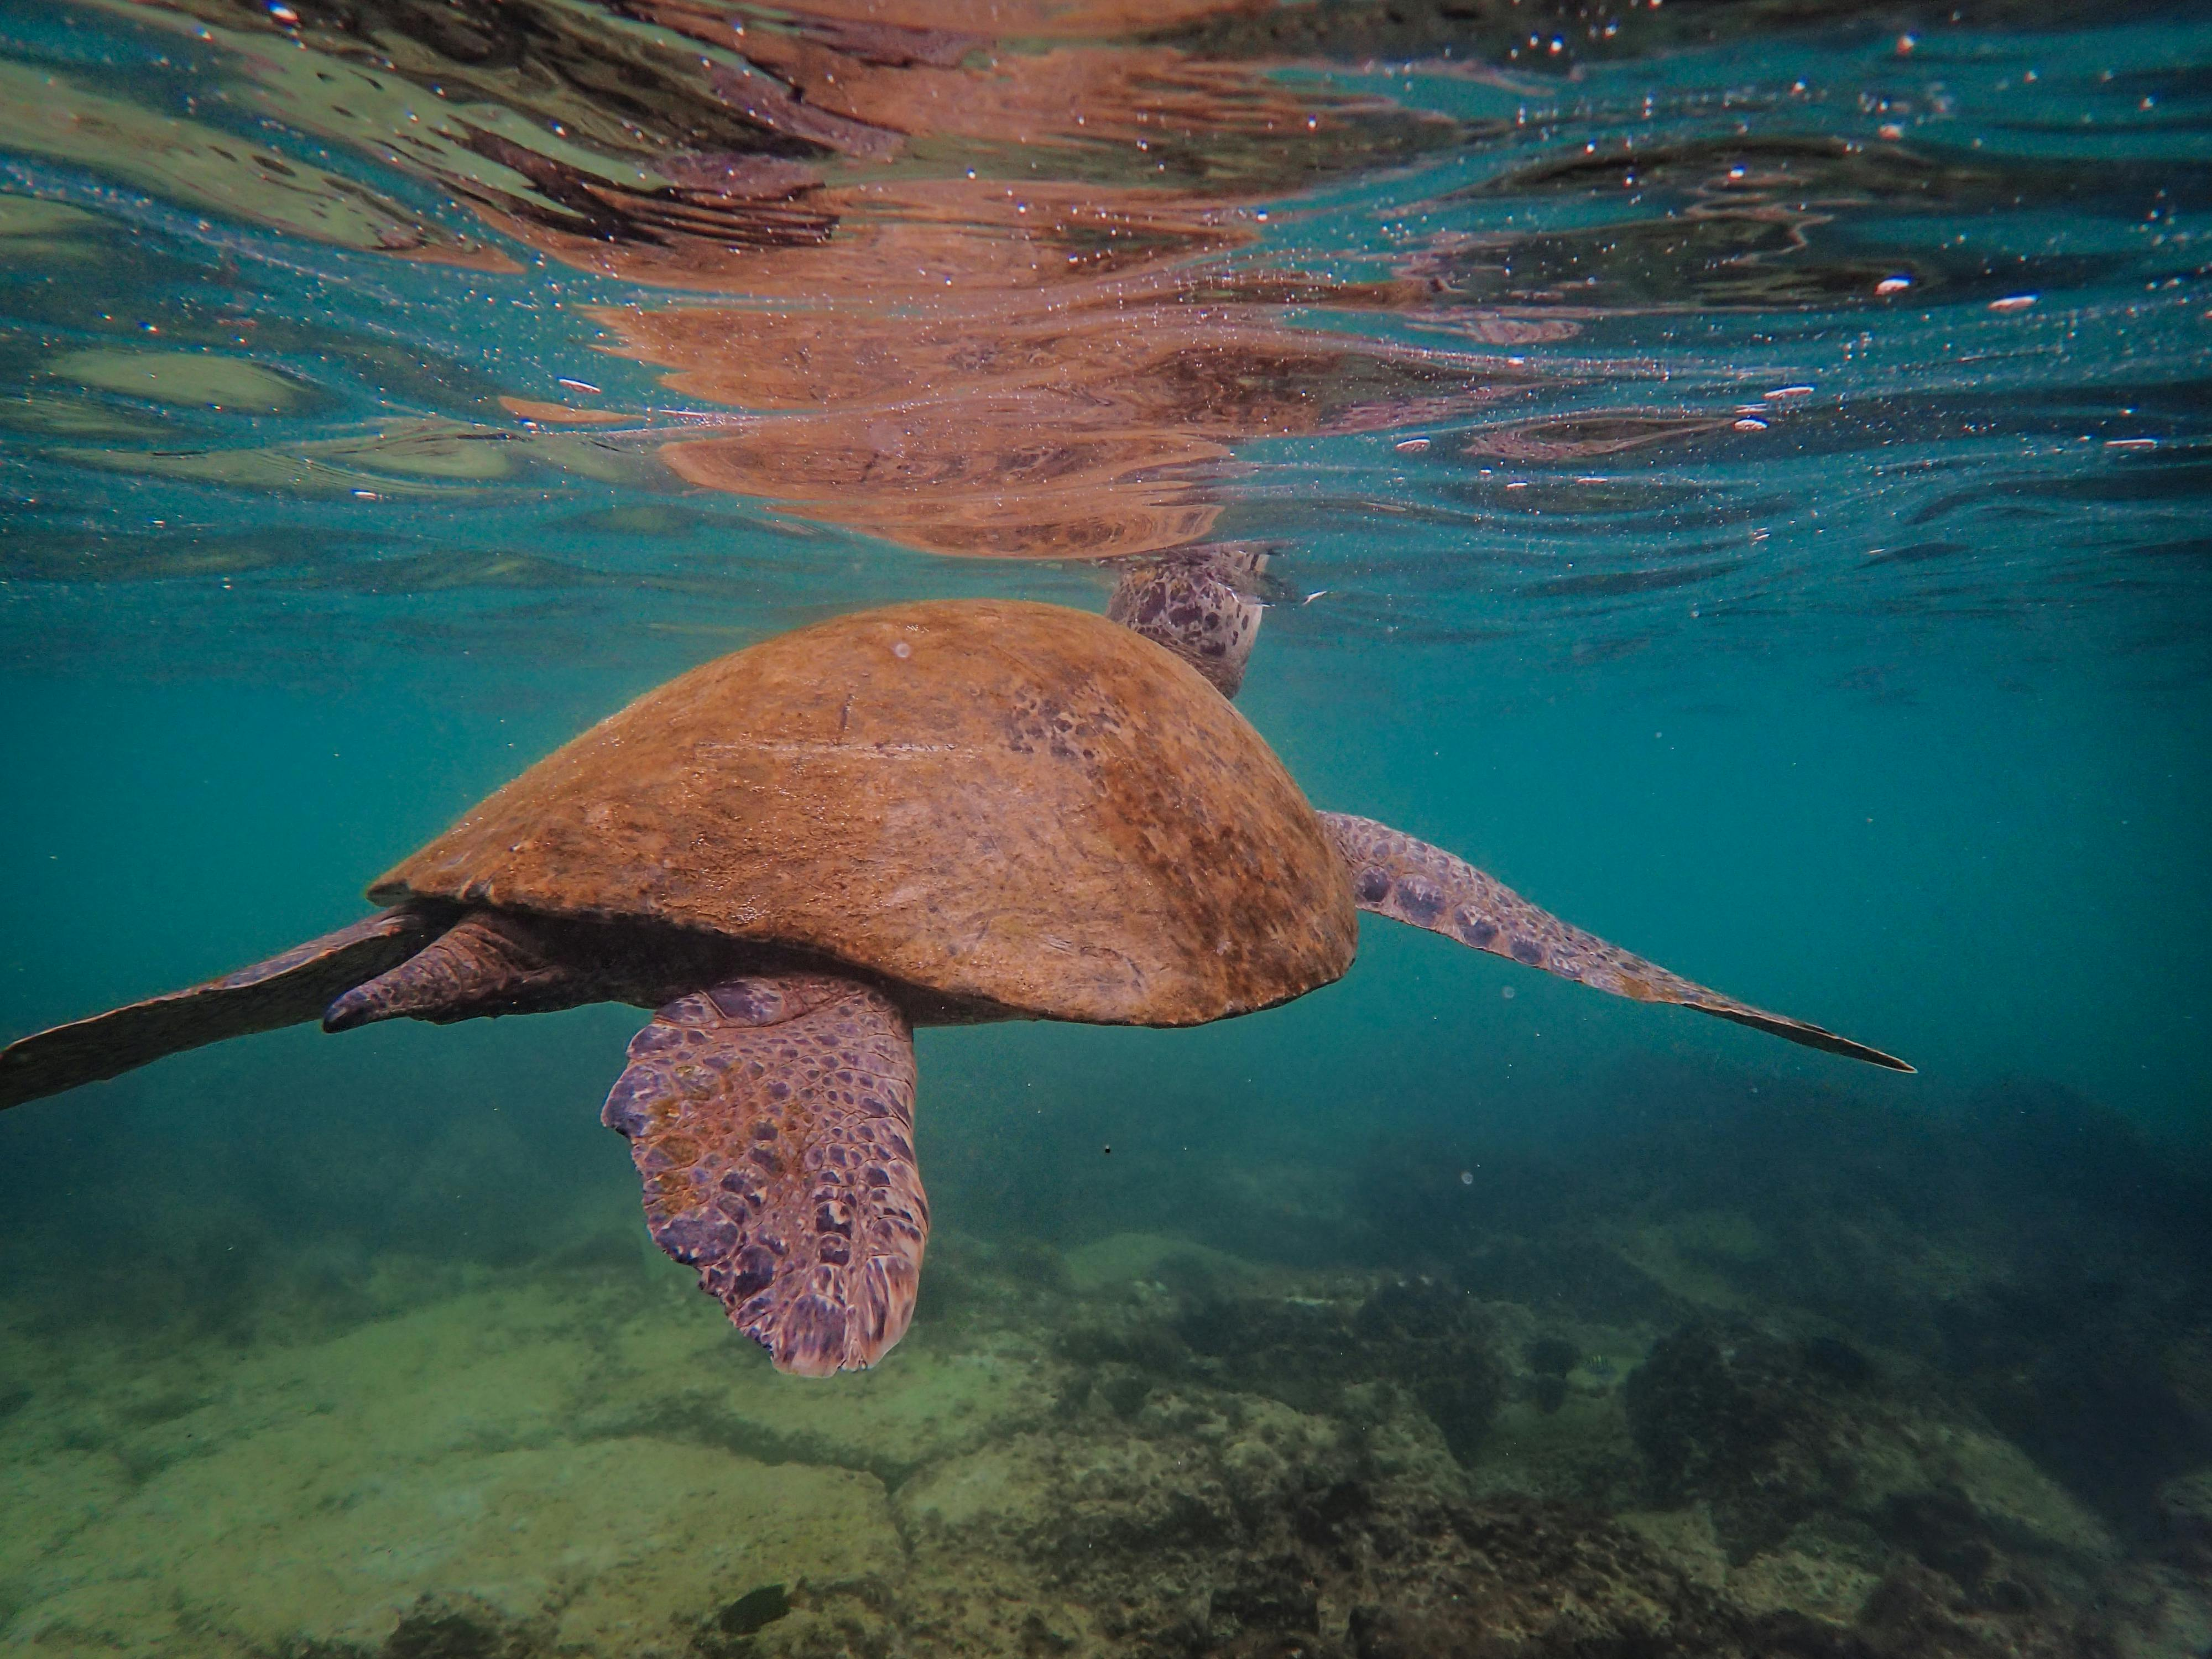turtle: (0, 558, 1930, 1385)
